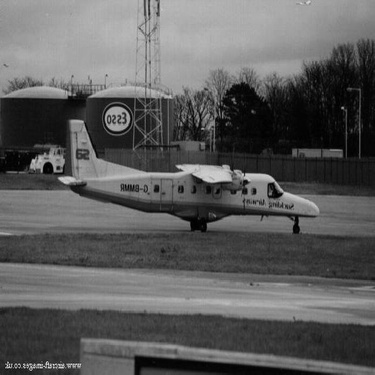airplane: (50, 107, 329, 247)
